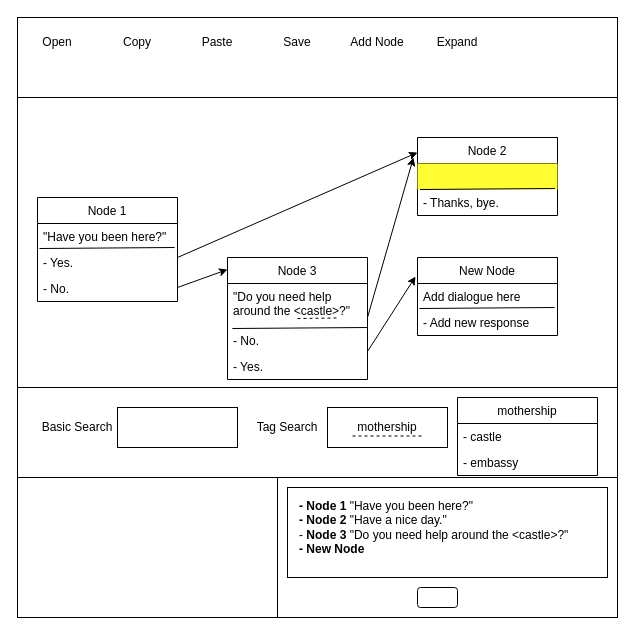
Some shapes in this 635 by 635 pixel diagram are drawn without their labels. Each missing label, with the centre of its shape:
"Have a nice day.": pixel 487 176
day: pixel 177 427
Edit: pixel 437 597
Script Editor: pixel 147 547
